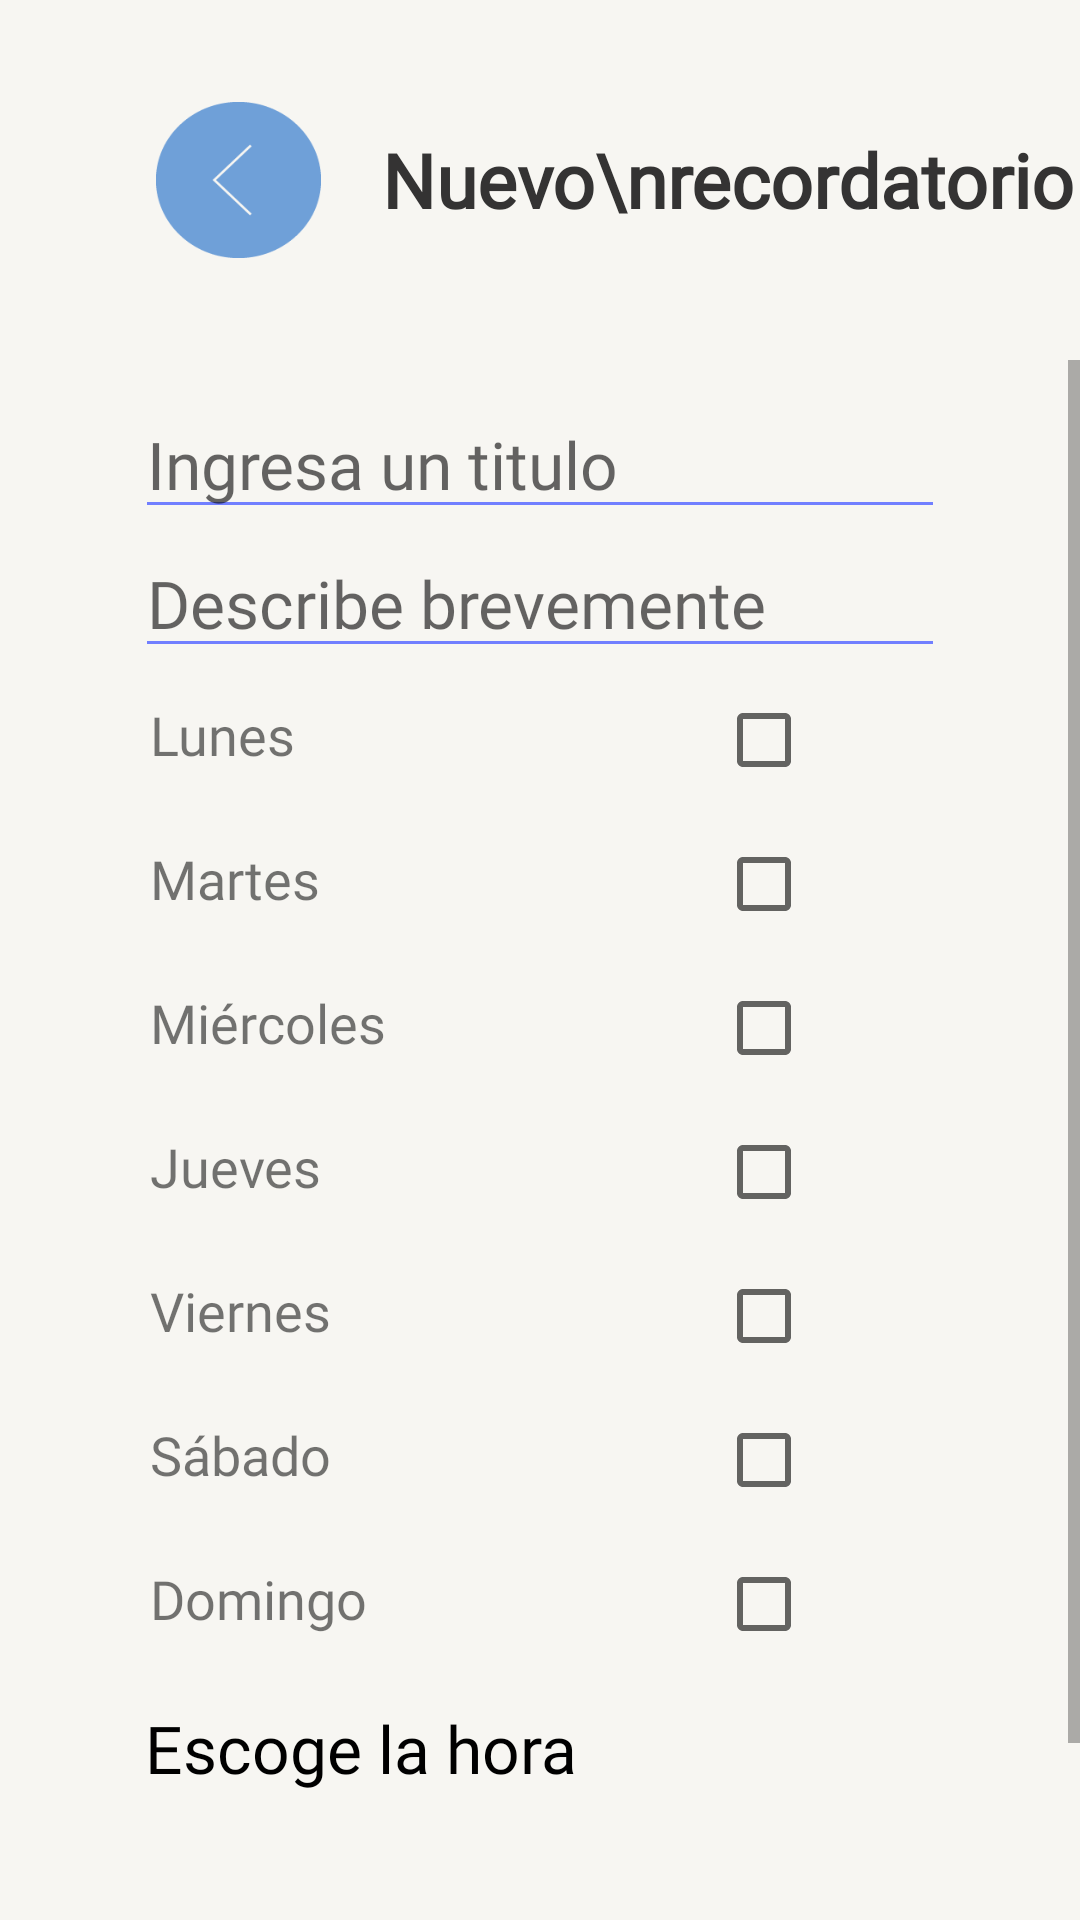

Locate icon controls on the screen. Image size 1080x1920, boxes as (x1, y1, x2, y2).
regresar xxxdpi: (156, 102, 321, 258)
